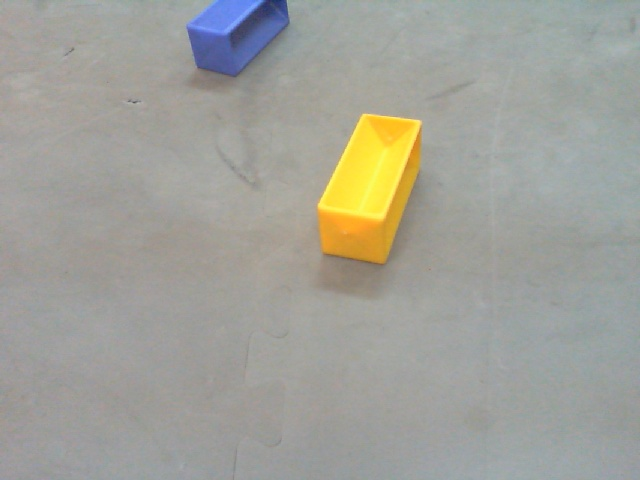BlueSample: (186, 1, 292, 78)
YellowSample: (315, 112, 424, 270)
